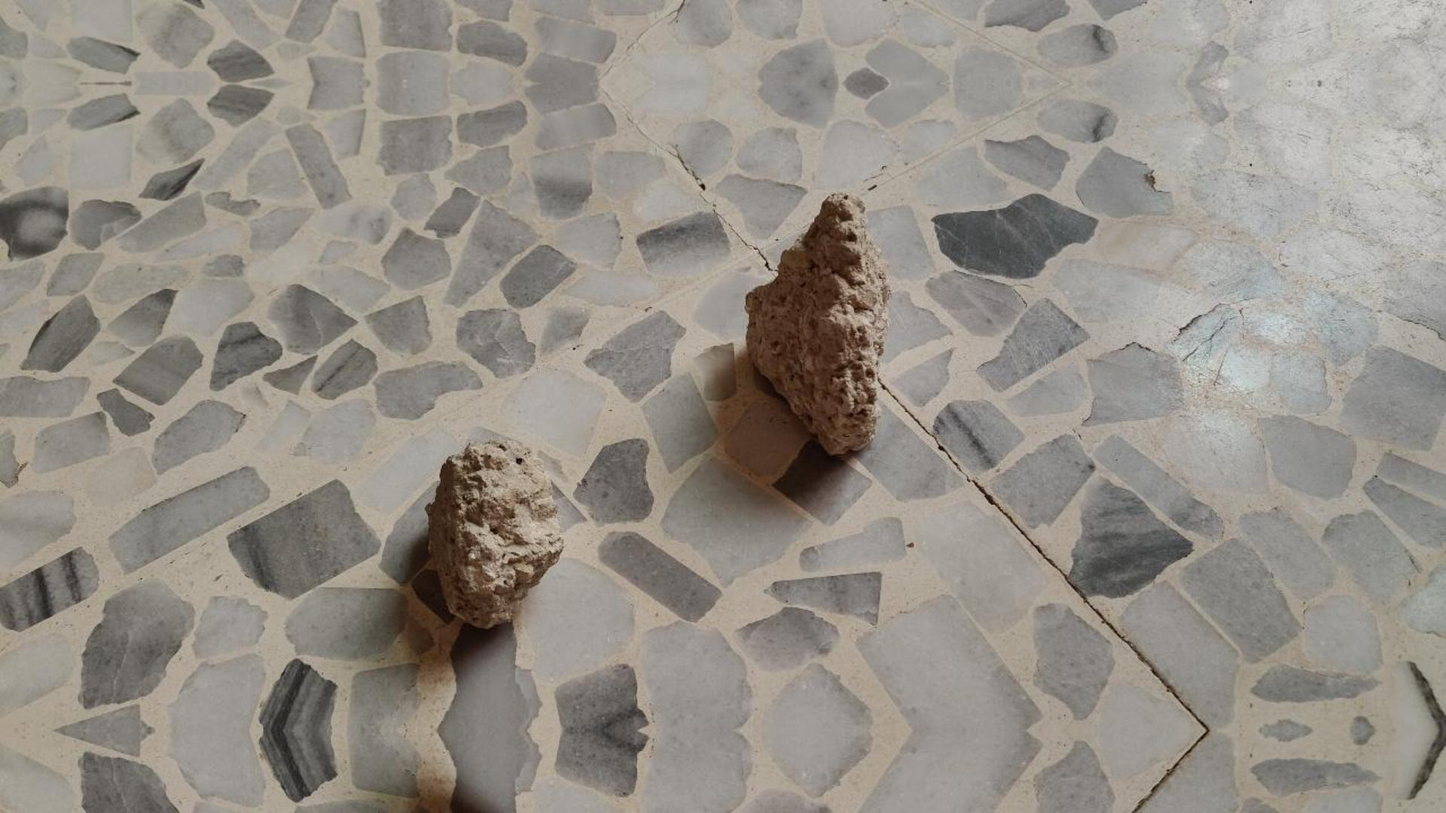rock: (746, 193, 889, 454), (427, 440, 563, 628)
